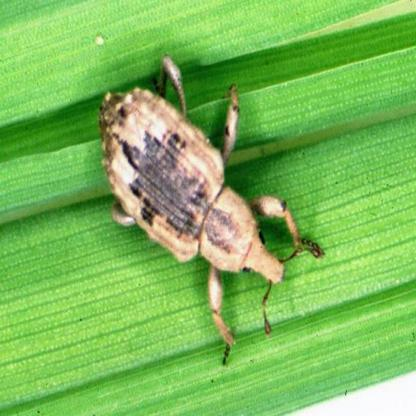rice-bug: (102, 56, 292, 317)
